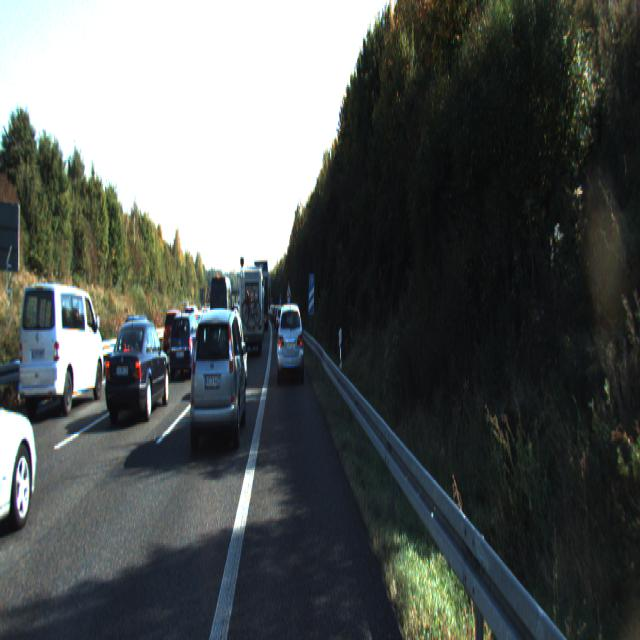Car: (16, 279, 105, 419), (186, 306, 248, 456), (0, 332, 43, 546), (104, 316, 170, 426), (216, 314, 248, 394), (168, 314, 204, 384), (238, 265, 264, 353), (277, 301, 304, 382), (120, 314, 156, 374), (208, 277, 231, 356), (254, 262, 268, 332)
